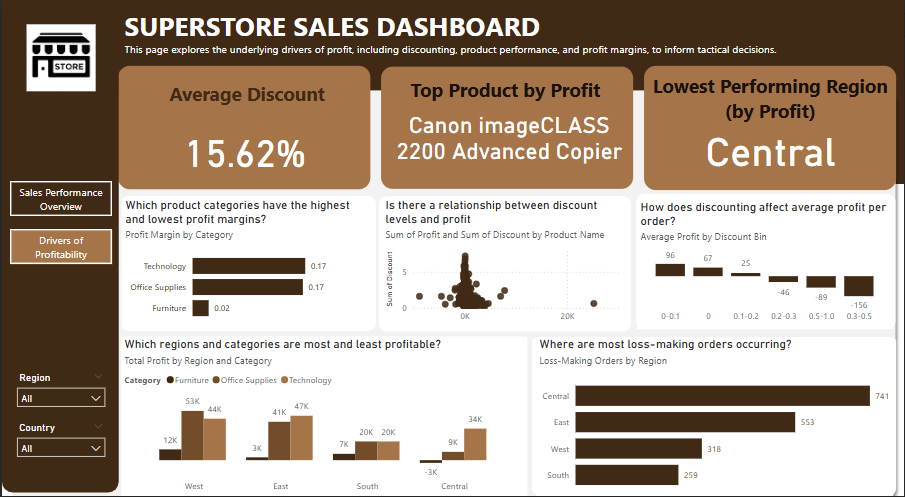

What the dashboard file says about the page in this screenshot:
{"tool":"powerbi","page":{"name":"Drivers of Profitability","canvas":[1280,720],"ordinal":1},"visuals":[{"type":"card","title":"Total Quantity","fields":{"Values":["Orders.Average Discount"]},"box":[168.7,161.6,351.5,107.7],"z":0},{"type":"cardVisual","fields":{"Data":["Orders.Lowest Region"]},"box":[915.6,161.6,348.7,93.5],"z":1000},{"type":"cardVisual","fields":{"Data":["Orders.Top Product"]},"box":[538.6,123.3,361.4,144.6],"z":2000},{"type":"clusteredColumnChart","title":"How does discounting affect average profit per order?","fields":{"Category":["Orders.Discount Bin"],"Y":["Orders.Average Profit"]},"box":[900,287.7,362.8,182.8],"z":3000},{"type":"clusteredColumnChart","title":"Which regions and categories are most and least profitable?","fields":{"Category":["Orders.Region"],"Y":["Orders.Total Profit"],"Series":["Orders.Category"]},"box":[168,482.1,576.2,230.1],"z":4000},{"type":"clusteredBarChart","title":"Where are most loss-making orders occurring?","fields":{"Category":["Orders.Region"],"Y":["Orders.Loss-Making Orders"]},"box":[756.9,481.9,506,231],"z":5000},{"type":"textbox","box":[913.8,102.5,349.4,92.4],"z":6000},{"type":"textbox","box":[172.9,113.4,348.7,48.2],"z":7000},{"type":"textbox","box":[538.6,107.7,350.1,58.1],"z":8000},{"type":"textbox","box":[168,10.1,717.3,62.2],"z":9000},{"type":"textbox","box":[168.7,58.1,948.2,29.8],"z":10000},{"type":"slicer","fields":{"Values":["Orders.Region"]},"box":[11.3,525.8,144.6,70.9],"z":11000},{"type":"slicer","fields":{"Values":["Orders.Country"]},"box":[11.3,596.7,144.6,70.9],"z":12000},{"type":"image","box":[29.8,22.7,107.7,127.6],"z":13000},{"type":"actionButton","box":[11.3,260.8,144.6,49.6],"z":14000},{"type":"actionButton","box":[11.3,328.8,144.6,49.6],"z":15000},{"type":"clusteredBarChart","title":"Which product categories have the highest and lowest profit margins?","fields":{"Category":["Orders.Category"],"Y":["Orders.Profit Margin"]},"box":[170.1,284.9,357.2,185.7],"z":16000},{"type":"scatterChart","title":"Is there a relationship between discount levels and profit","fields":{"X":["Sum(Orders.Profit)"],"Category":["Orders.Product Name"],"Y":["Sum(Orders.Discount)"]},"box":[538.6,284.9,350.1,185.7],"z":17000}]}

Visuals, with their boxes in screenshot pixels (x1, y1, x2, y2), scaled from the page's 1280x720 canvas onto the 905x497 screenshot:
"Total Quantity" card: crop(119, 112, 368, 186)
cardVisual - Orders.Lowest Region: crop(647, 112, 894, 176)
cardVisual - Orders.Top Product: crop(381, 85, 636, 185)
"How does discounting affect average profit per order?" clusteredColumnChart: crop(636, 199, 893, 325)
"Which regions and categories are most and least profitable?" clusteredColumnChart: crop(119, 333, 526, 492)
"Where are most loss-making orders occurring?" clusteredBarChart: crop(535, 333, 893, 492)
textbox: crop(646, 71, 893, 135)
textbox: crop(122, 78, 369, 112)
textbox: crop(381, 74, 628, 114)
textbox: crop(119, 7, 626, 50)
textbox: crop(119, 40, 790, 61)
slicer - Orders.Region: crop(8, 363, 110, 412)
slicer - Orders.Country: crop(8, 412, 110, 461)
image: crop(21, 16, 97, 104)
actionButton: crop(8, 180, 110, 214)
actionButton: crop(8, 227, 110, 261)
"Which product categories have the highest and lowest profit margins?" clusteredBarChart: crop(120, 197, 373, 325)
"Is there a relationship between discount levels and profit" scatterChart: crop(381, 197, 628, 325)
